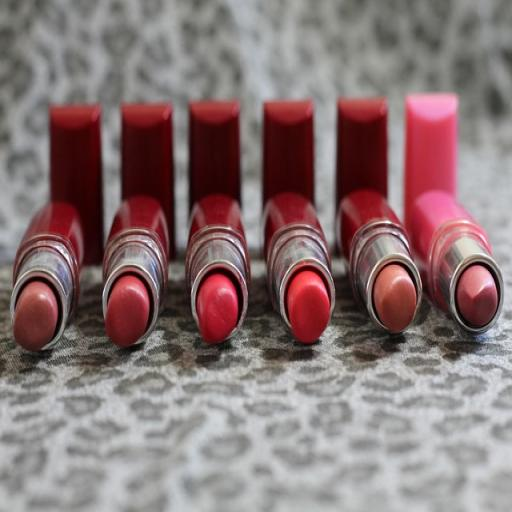lipstick: (405, 95, 503, 333), (11, 105, 103, 350), (336, 99, 421, 333), (264, 101, 335, 342), (103, 104, 173, 346), (186, 101, 250, 342), (11, 202, 83, 350), (50, 105, 103, 264), (404, 94, 458, 232)
